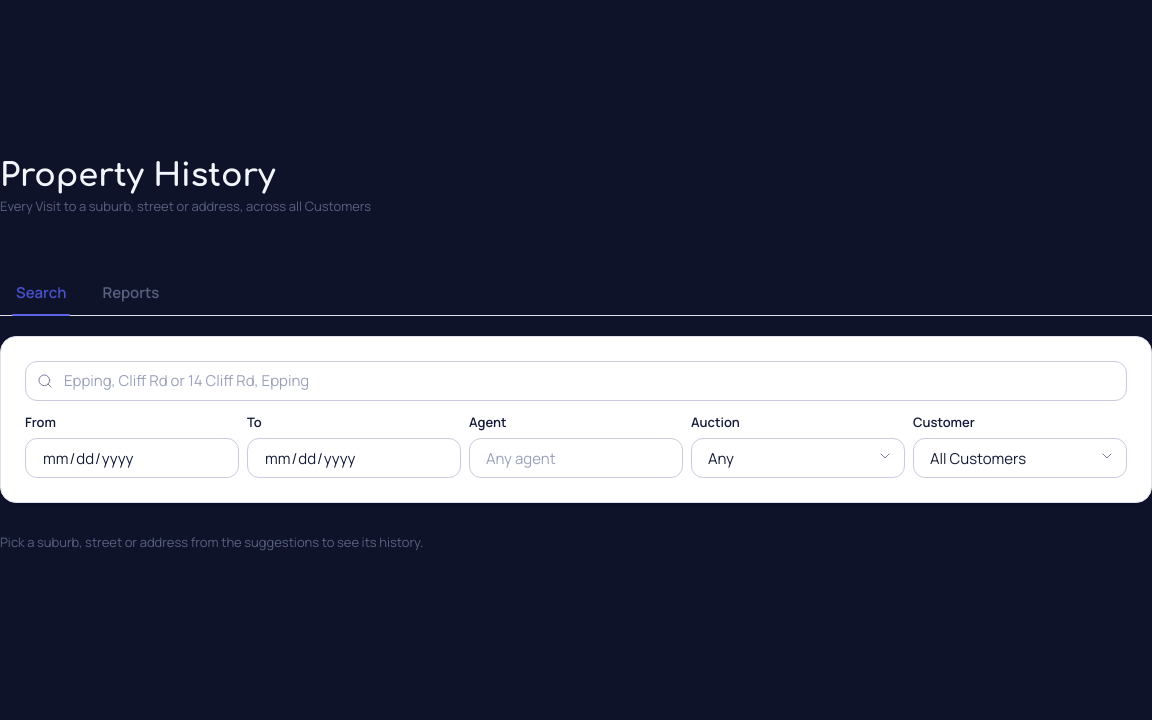
Test: Administrator Property History page › shows collapsible Street and Property groups with Visit counts and Scheduled rows
The width and height of the screenshot is (1152, 720).
In the dropdown named "Suburb, street or address": (576,381) [25,361,1127,401], type "epping"
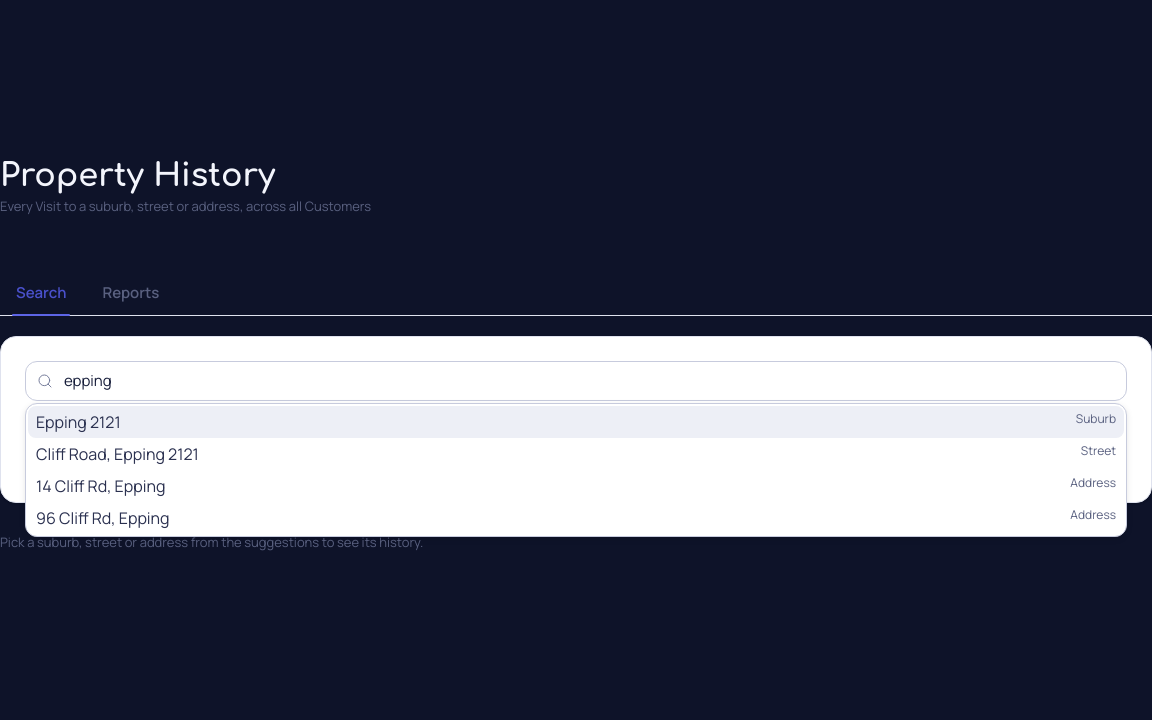
Click the option "Epping 2121 Suburb": (78,422) [28,406,1124,438]
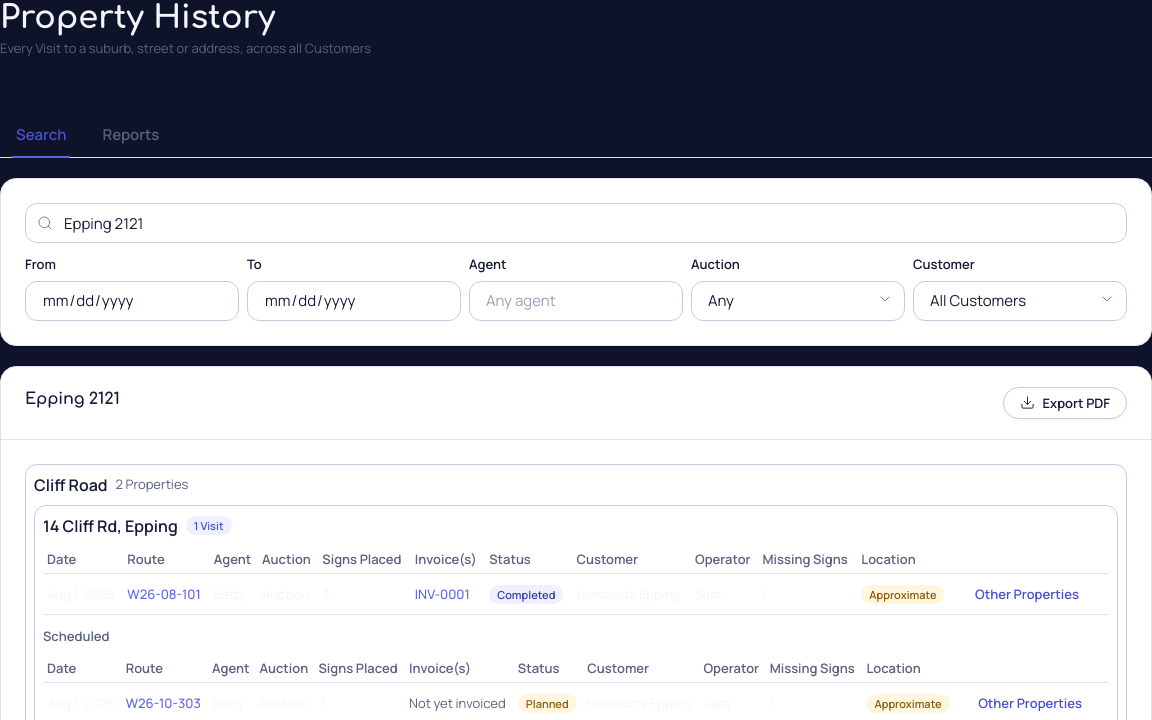
Check: the text "Cliff Road" is shown, box [34,473,108,497]
Check: the text "1 Visit" is shown, box [186,516,232,535]
Check: the heading "Scheduled" is shown, box [43,627,110,645]
